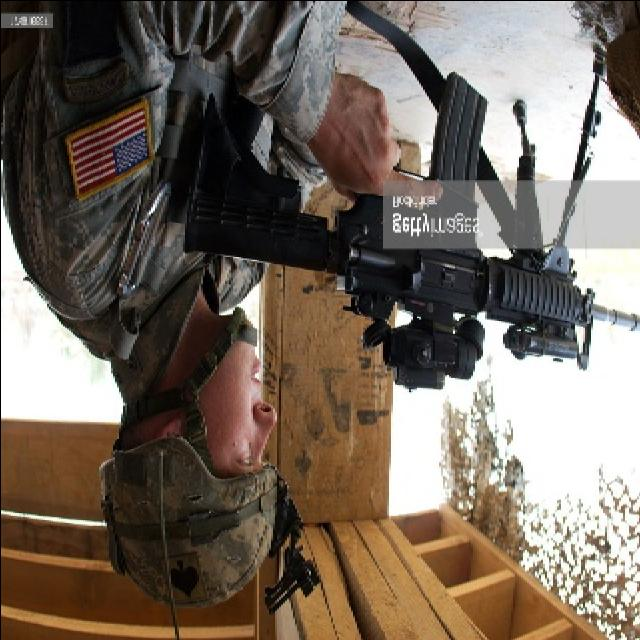rifle: (175, 74, 635, 387)
